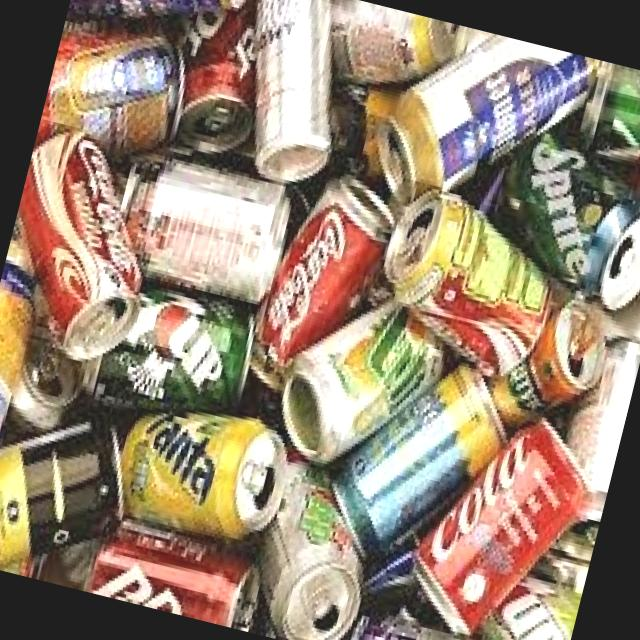kim_loai: (249, 176, 548, 466), (412, 420, 590, 637), (380, 34, 586, 196), (335, 366, 506, 558), (380, 191, 548, 381), (17, 130, 147, 364), (507, 134, 640, 313), (122, 159, 287, 303), (120, 417, 288, 540), (96, 287, 253, 410), (87, 521, 260, 631), (556, 339, 640, 565), (237, 0, 333, 188), (262, 465, 363, 640), (490, 300, 608, 429), (176, 0, 256, 153), (336, 0, 474, 84)
